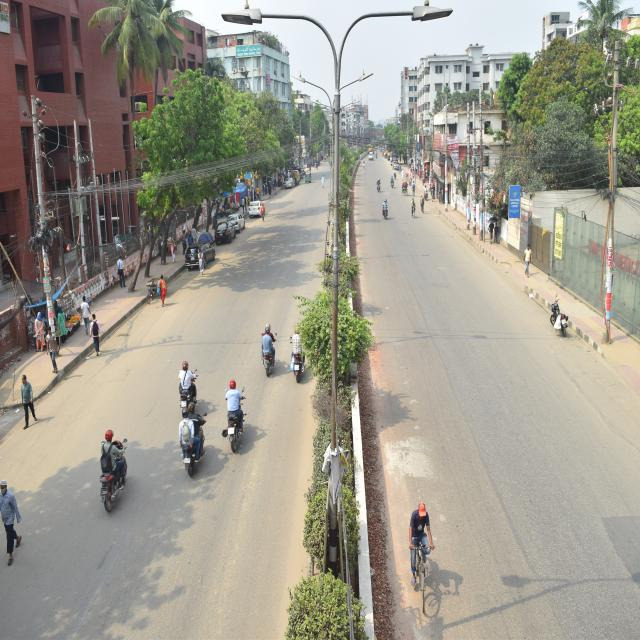car: (184, 239, 214, 274), (214, 218, 232, 248), (227, 205, 243, 238), (247, 194, 265, 219)
motorbike: (95, 430, 128, 513), (175, 407, 204, 495), (545, 298, 577, 360), (220, 376, 243, 451), (258, 318, 281, 373), (176, 352, 194, 406), (290, 323, 302, 388), (382, 193, 399, 226), (372, 172, 385, 196)
